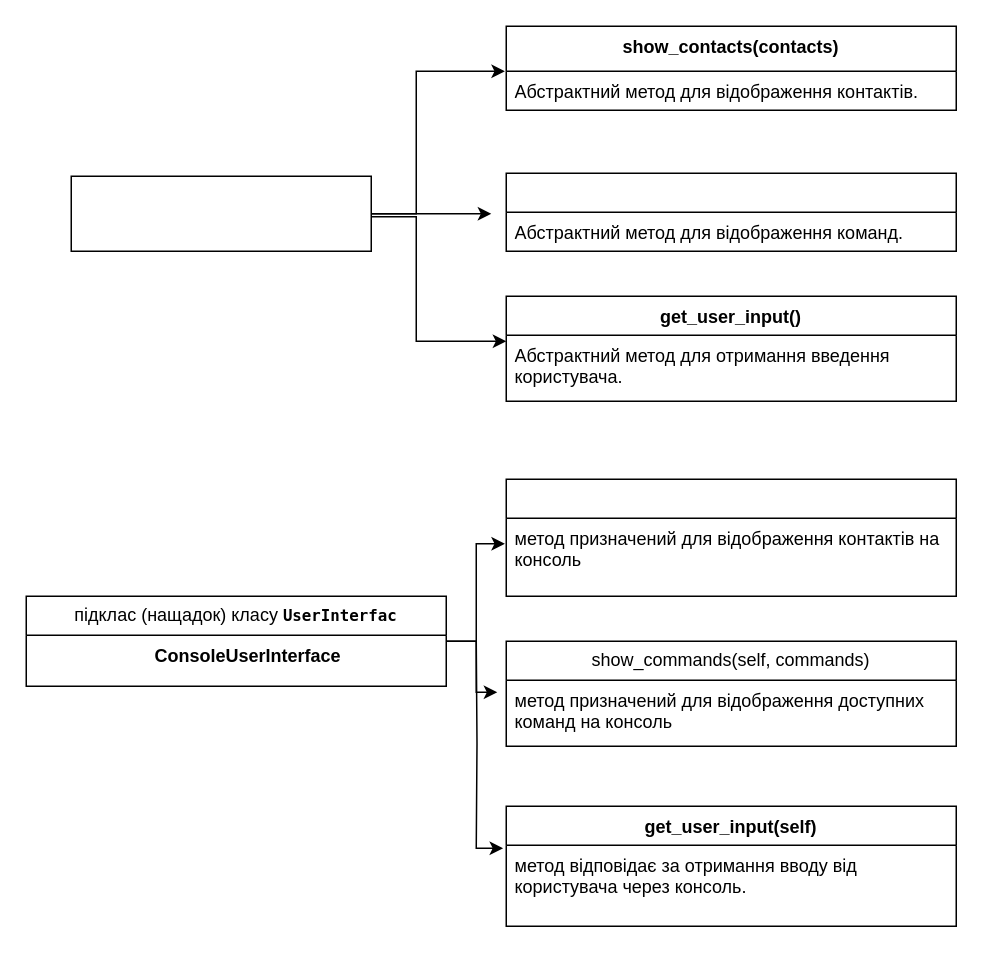
This 983x957 diagram has some shape labels left out. Here are the shapes that lost their labels. From the top down, the box of each, then its label:
(70, 175, 371, 251): Клас UserInterface
(505, 172, 956, 251): show_commands(commands)
(505, 478, 956, 596): show_contacts(self, contacts)
